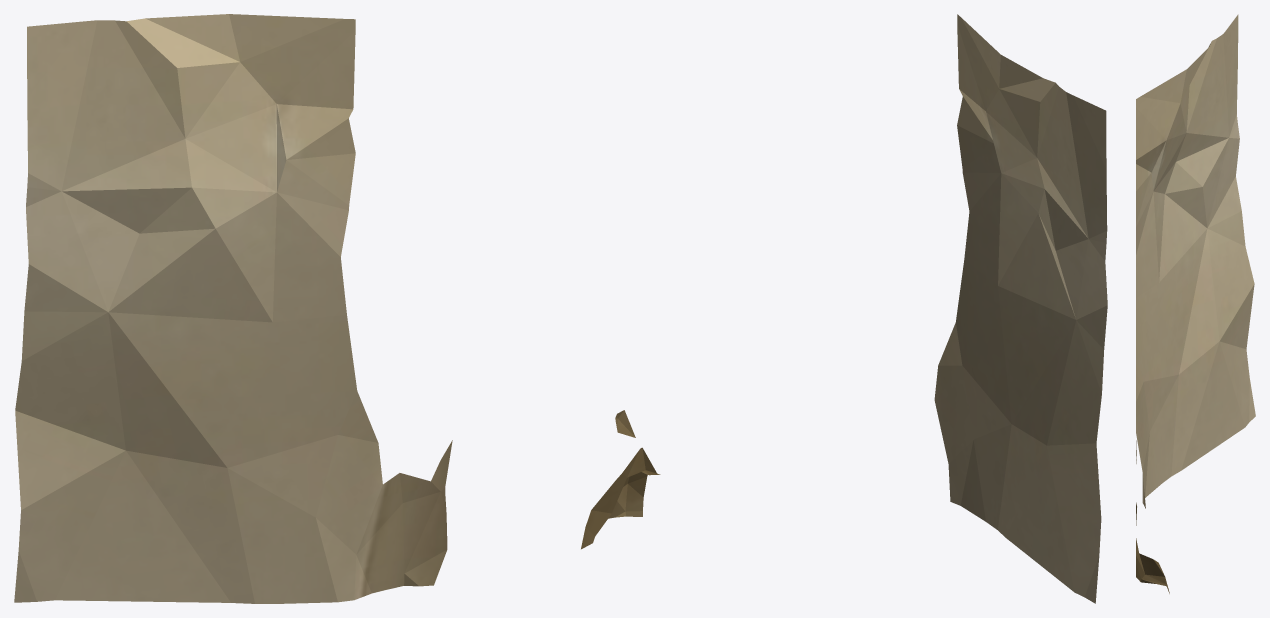
3 views of the same model, side by side, from view 1: azimuth 30°, elevation 25°; view 2: azimuth 150°, elevation 25°; view 3: azimuth 270°, elevation 25° (orthographic). The views are drawn at different scales.
Size of the model in its own units: 0.8374 by 0.8374 by 0.2261.
Materials: 2 (2 with a texture image).
